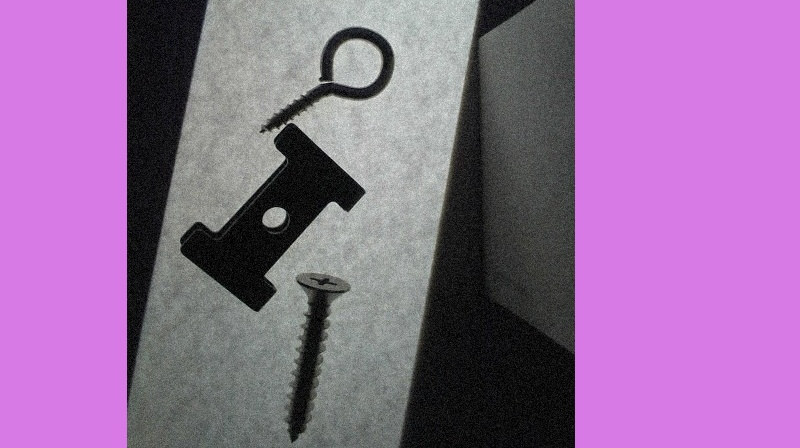O001: (257, 24, 396, 135)
O002: (176, 121, 365, 311)
S001: (281, 272, 352, 442)
